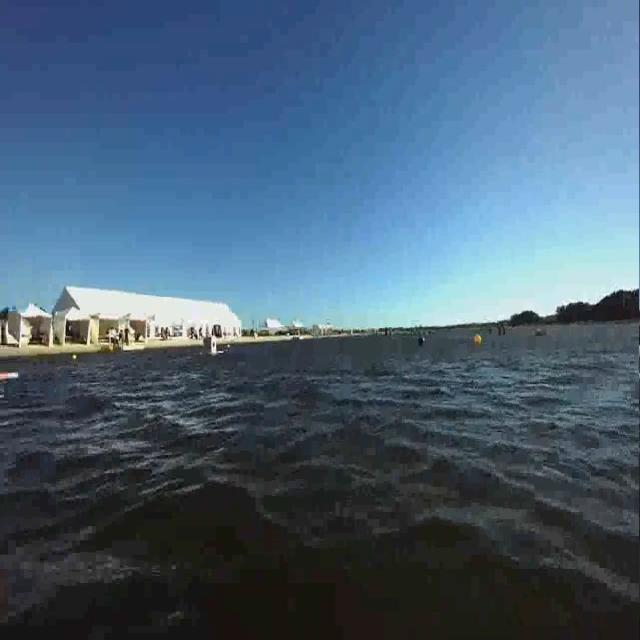yellow-buoy: (473, 334, 482, 348)
